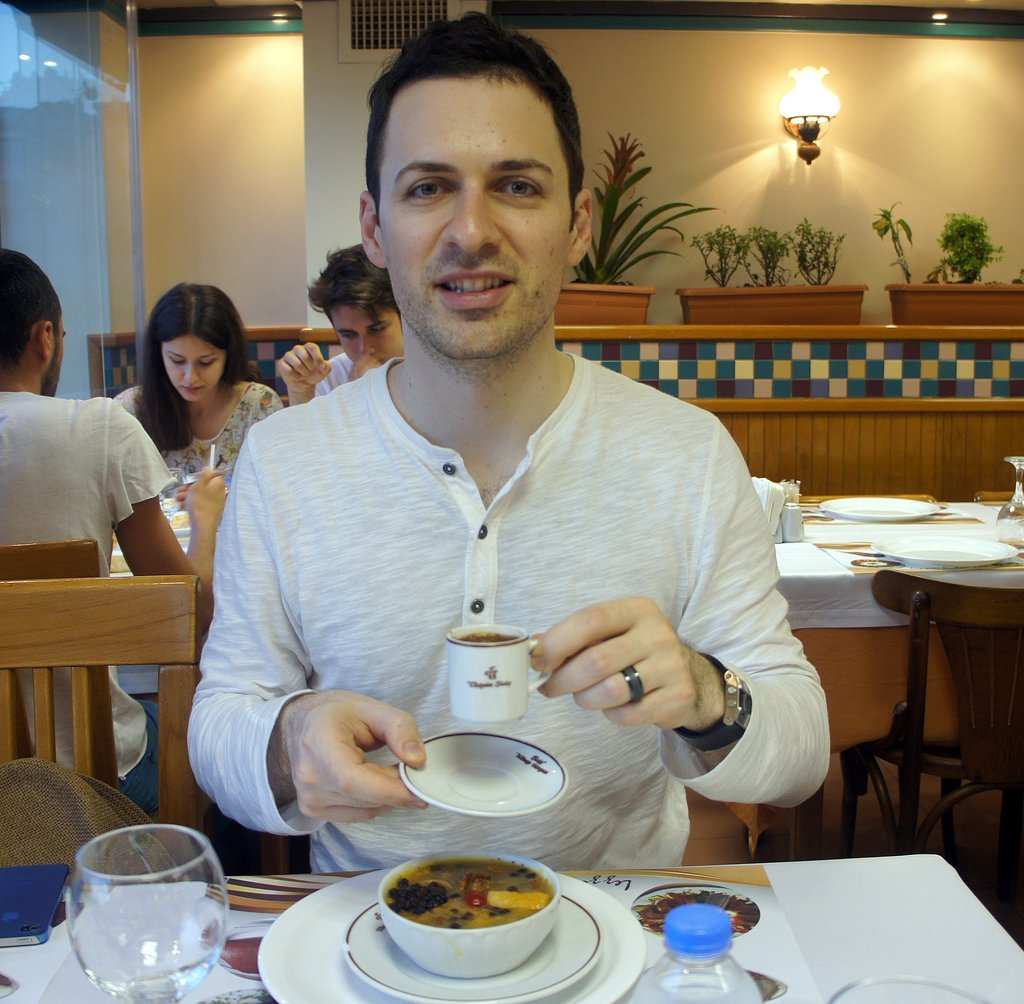plate: (819, 496, 942, 526)
